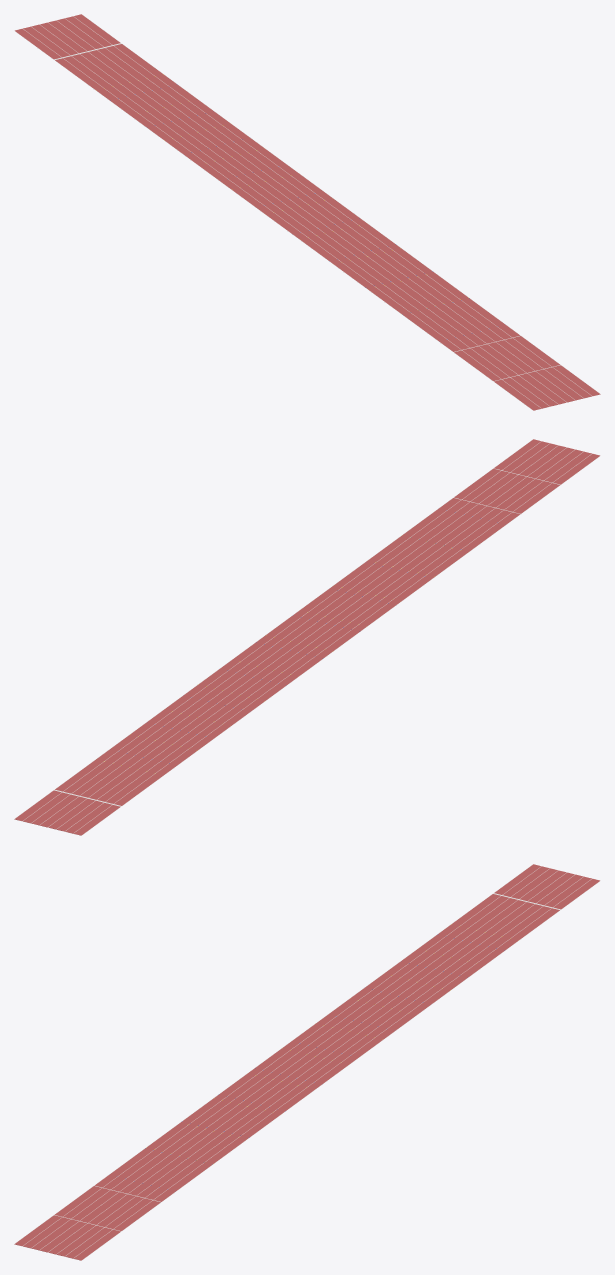
Rendered from Hurdle markings.glb.
3 views of the same model, one above another, from view 1: azimuth 30°, elevation 25°; view 2: azimuth 150°, elevation 25°; view 3: azimuth 330°, elevation 25° (orthographic).
Parts seen in each view (by area): view 1: MetaAthletics_Straight_Base, MetaAthletics_LaneDivider_0, MetaAthletics_LaneDivider_8; view 2: MetaAthletics_Straight_Base, MetaAthletics_LaneDivider_0, MetaAthletics_LaneDivider_8; view 3: MetaAthletics_Straight_Base, MetaAthletics_LaneDivider_8, MetaAthletics_LaneDivider_0.
Part boxes in pixels (x1,y1,x2,y2): MetaAthletics_Straight_Base: [15, 14, 600, 410]; MetaAthletics_LaneDivider_0: [14, 30, 532, 410]; MetaAthletics_LaneDivider_8: [82, 14, 600, 393]; MetaAthletics_Straight_Base: [14, 439, 599, 835]; MetaAthletics_LaneDivider_0: [82, 455, 600, 835]; MetaAthletics_LaneDivider_8: [14, 439, 532, 818]; MetaAthletics_Straight_Base: [14, 864, 599, 1260]; MetaAthletics_LaneDivider_8: [82, 880, 600, 1260]; MetaAthletics_LaneDivider_0: [14, 864, 532, 1243].
Bounding box in the file's own units: 9.81 × 0.023 × 130.
